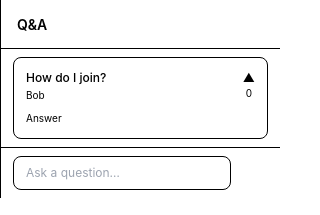
upvote button is disabled after clicking
Click the button with test id "btn-upvote-q-1": coordinates (249, 78) [243,70,255,86]
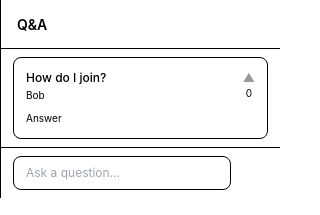
Expected: the button with test id "btn-upvote-q-1" is disabled, [243,70,255,86]
